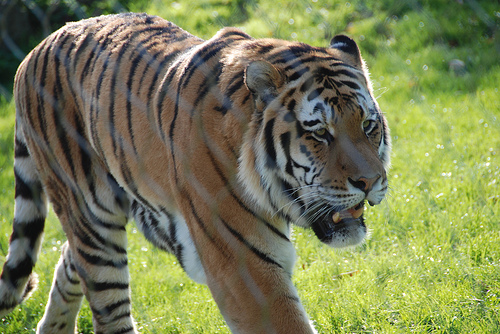Tigre: (12, 17, 404, 334)
